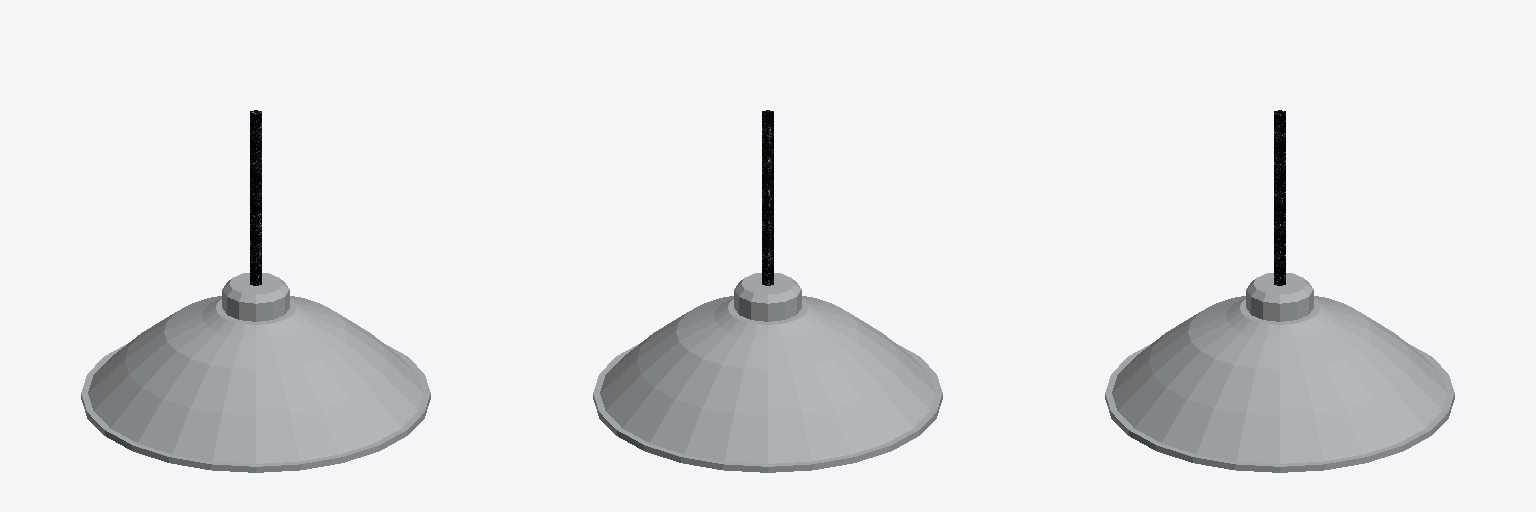
The picture shows the model from 3 angles: view 1: azimuth 30°, elevation 25°; view 2: azimuth 150°, elevation 25°; view 3: azimuth 270°, elevation 25°; orthographic projection.
Visible parts, largest first — view 1: Mesh2 Group1 Lampe1_industrie1 Model, Mesh1 Fil Lampe1_industrie1 Model; view 2: Mesh2 Group1 Lampe1_industrie1 Model, Mesh1 Fil Lampe1_industrie1 Model; view 3: Mesh2 Group1 Lampe1_industrie1 Model, Mesh1 Fil Lampe1_industrie1 Model.
Part boxes in pixels (bbox=[...]): Mesh2 Group1 Lampe1_industrie1 Model: bbox=[81, 273, 430, 472]; Mesh1 Fil Lampe1_industrie1 Model: bbox=[250, 110, 261, 285]; Mesh2 Group1 Lampe1_industrie1 Model: bbox=[593, 273, 942, 472]; Mesh1 Fil Lampe1_industrie1 Model: bbox=[762, 110, 773, 285]; Mesh2 Group1 Lampe1_industrie1 Model: bbox=[1105, 273, 1454, 472]; Mesh1 Fil Lampe1_industrie1 Model: bbox=[1274, 110, 1285, 285].
Bounding box in the file's own units: 0.26 × 0.235 × 0.26.
Materials: 4 (1 with a texture image).